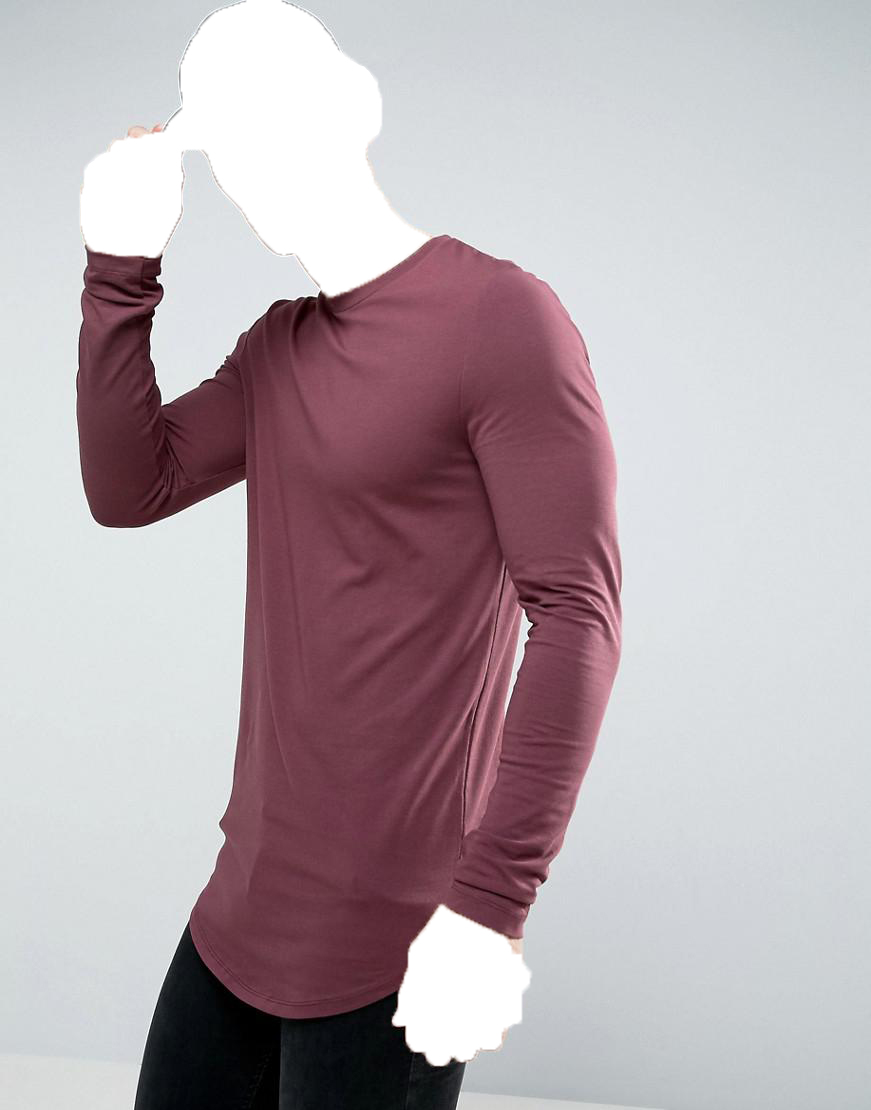teeshirt: (68, 235, 586, 1020)
